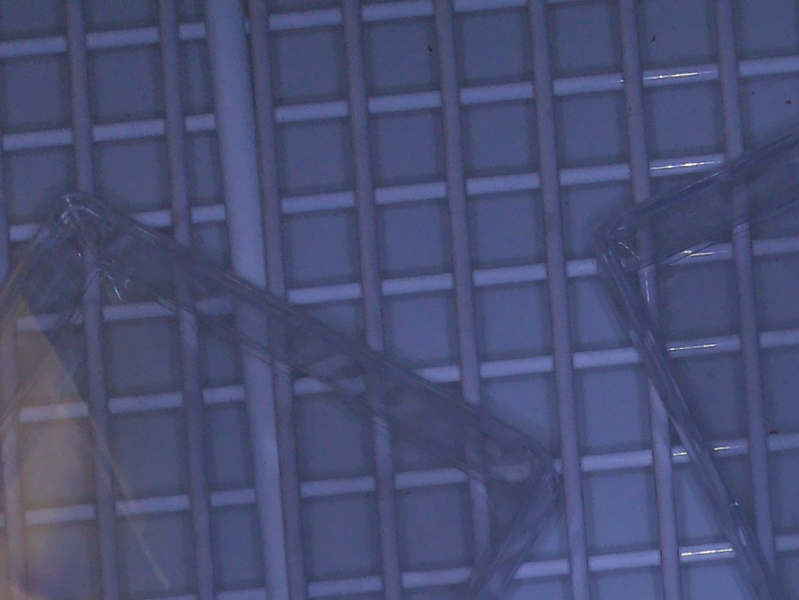plate: (1, 190, 563, 600), (595, 124, 799, 600)
